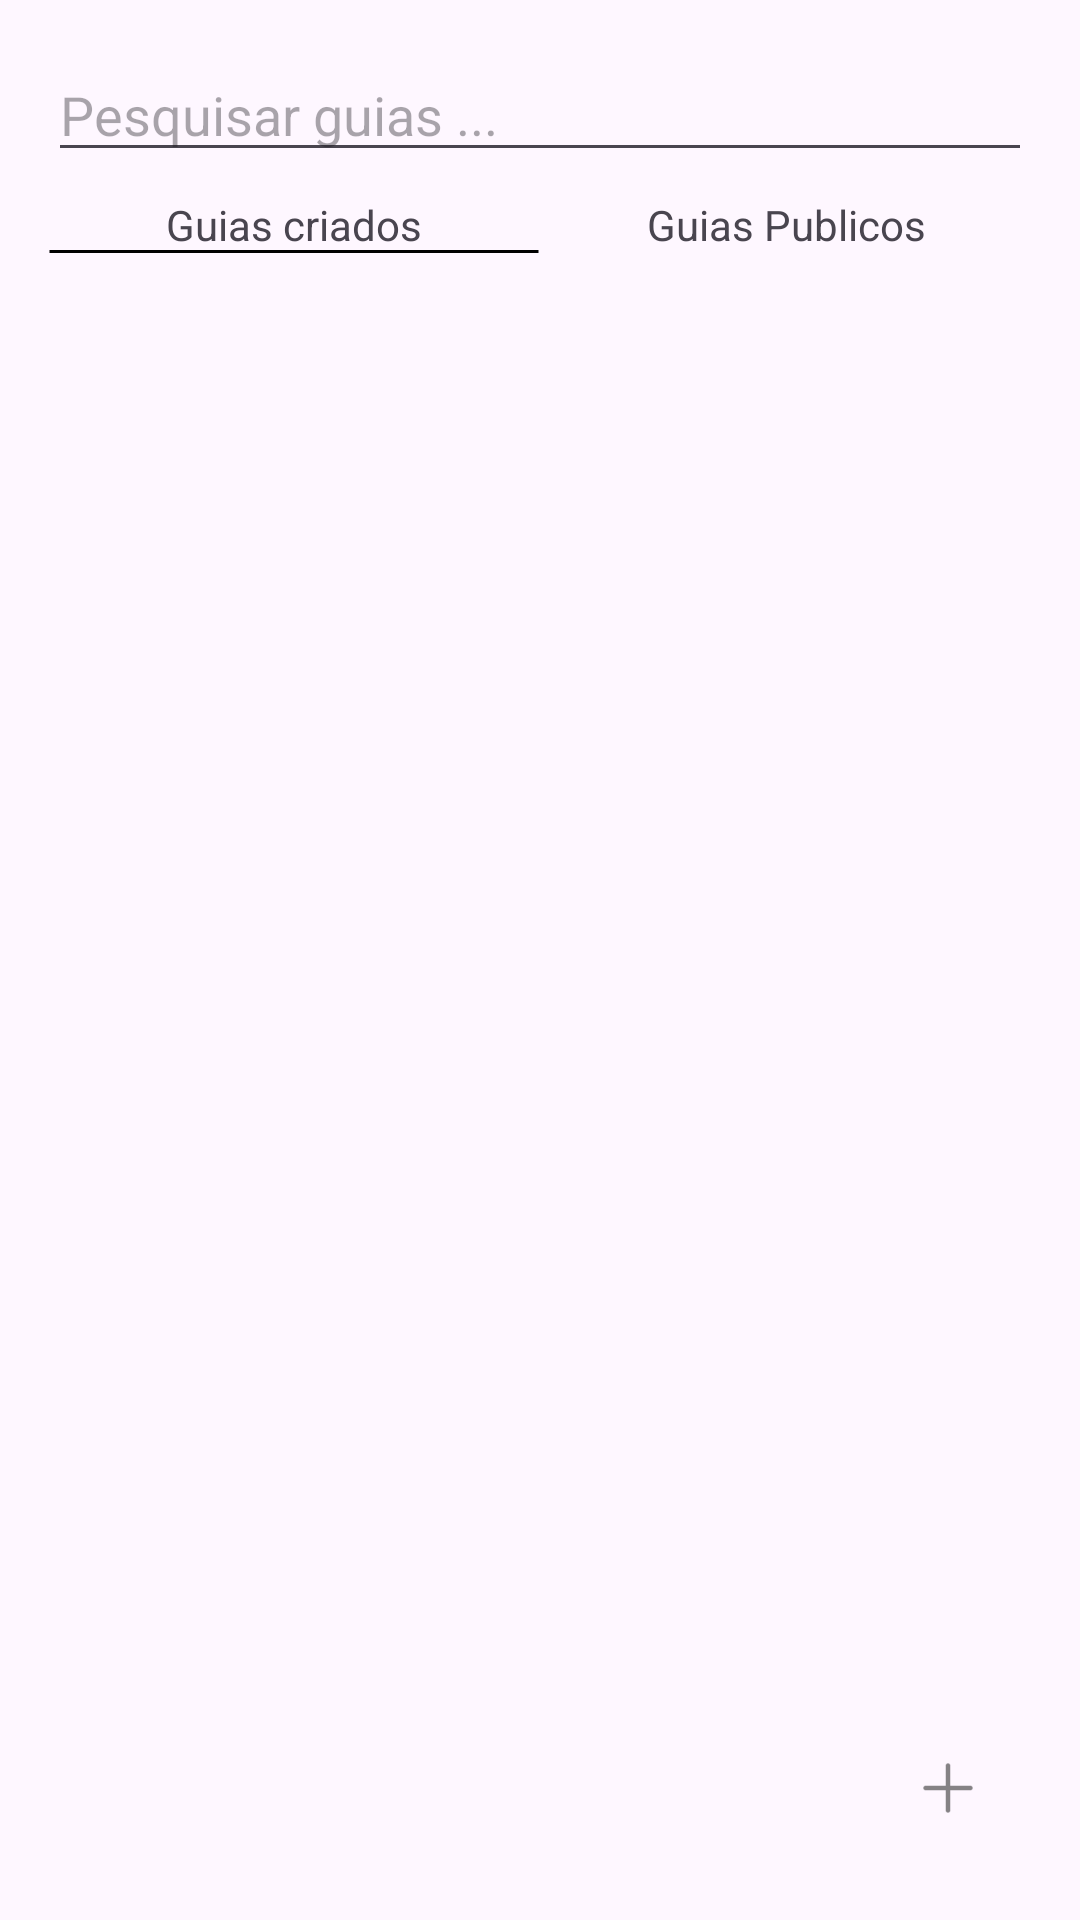

Icon click points for this 1080 x 1920 phone screenshot, format [x,y]:
mais: [948,1788]
